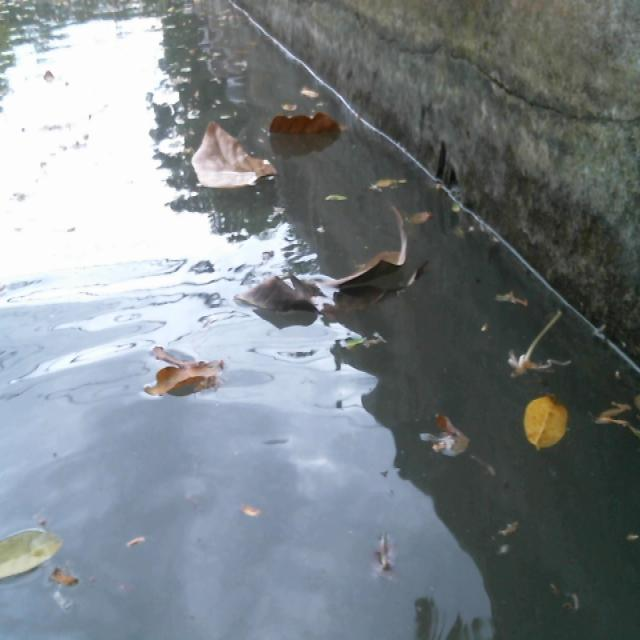Big-leaf: (222, 197, 416, 329), (183, 125, 280, 197), (138, 334, 230, 405), (258, 106, 342, 145)
Small-leaf: (0, 515, 75, 589), (417, 411, 500, 477), (526, 386, 586, 462), (224, 485, 292, 537), (25, 557, 76, 605), (405, 197, 449, 237), (121, 528, 164, 566), (302, 82, 331, 117), (375, 168, 410, 188)
